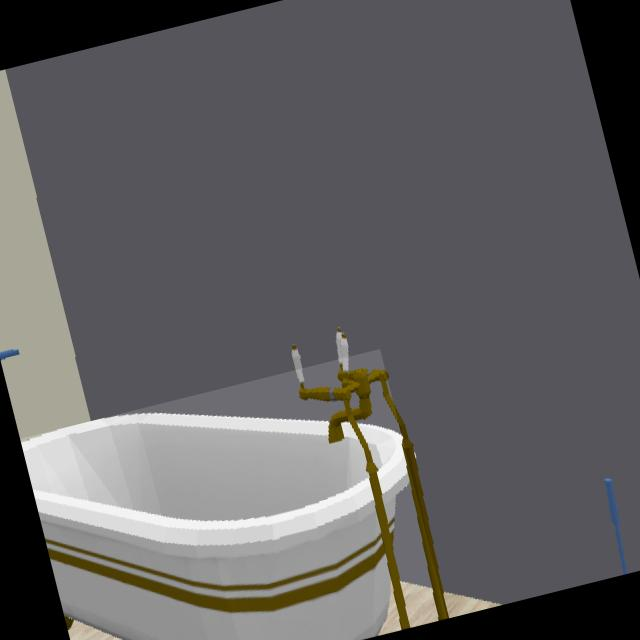bathtube: (21, 413, 413, 640)
